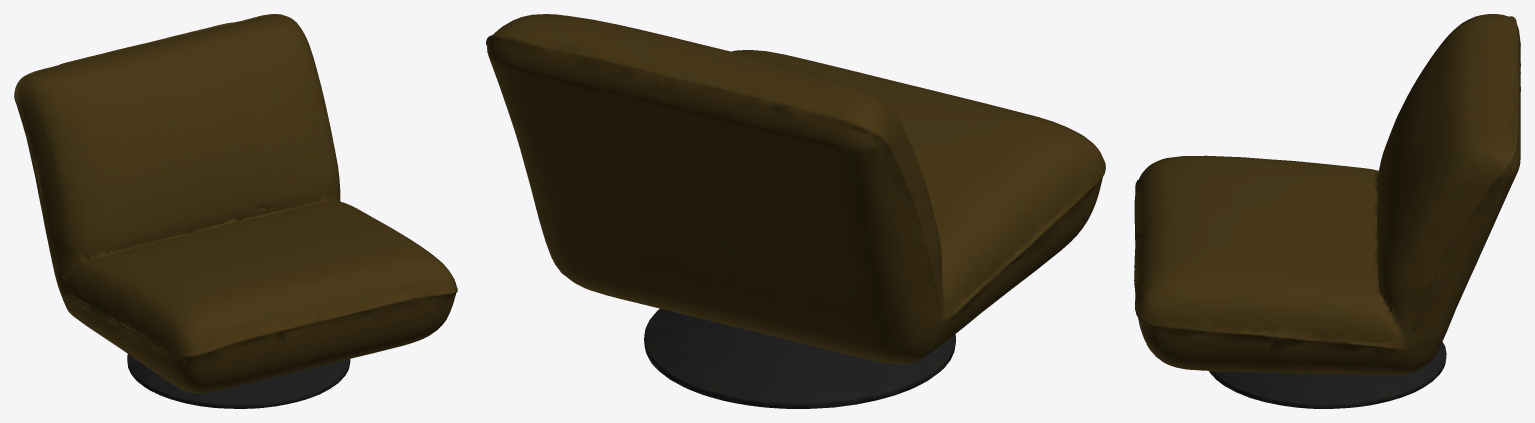
File: EhesG-d_-dszDcj2Fk_Cp.glb
3 views of the same model, side by side, from view 1: azimuth 30°, elevation 25°; view 2: azimuth 150°, elevation 25°; view 3: azimuth 270°, elevation 25° (orthographic). The views are drawn at different scales.
Parts seen in each view (by area): view 1: geometry_0; view 2: geometry_0; view 3: geometry_0.
Boxes of the visible parts, bbox=[...] form: geometry_0: bbox=[14, 14, 457, 408]; geometry_0: bbox=[486, 14, 1105, 408]; geometry_0: bbox=[1134, 14, 1520, 408].
Size of the model in its own units: 0.9252 by 0.8056 by 0.999.
1 material, 1 textured.
